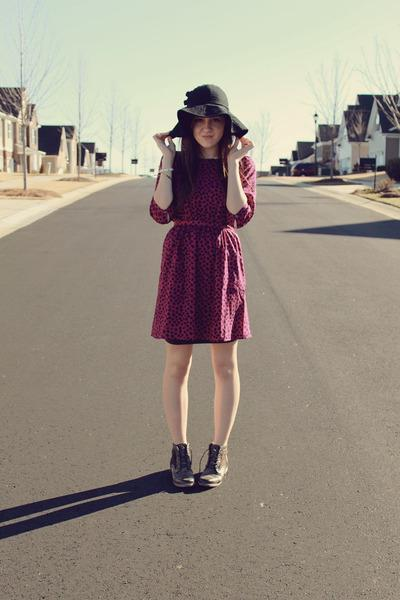dress: (145, 147, 260, 346)
